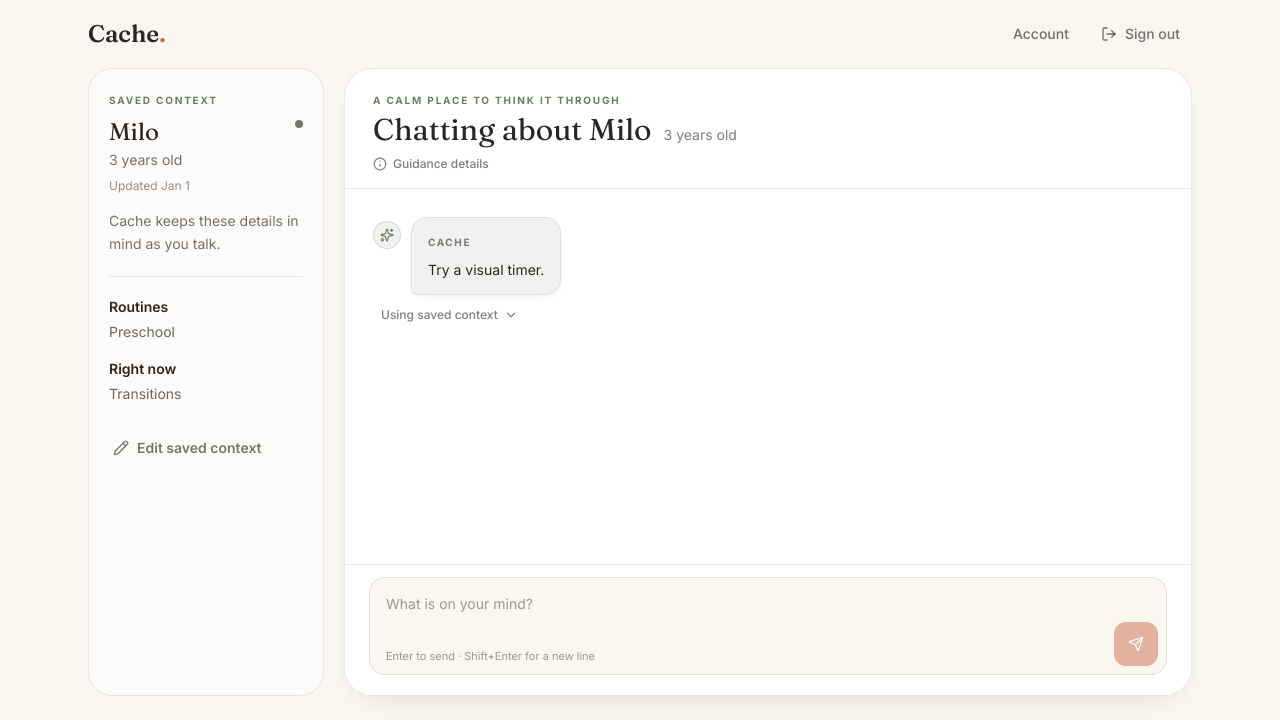
Test case: CacheApp › shows an expandable disclosure beneath a reply that used saved context after reload
Click the heading "Using saved context" at (449, 315), box left=373, top=303, right=526, bottom=327
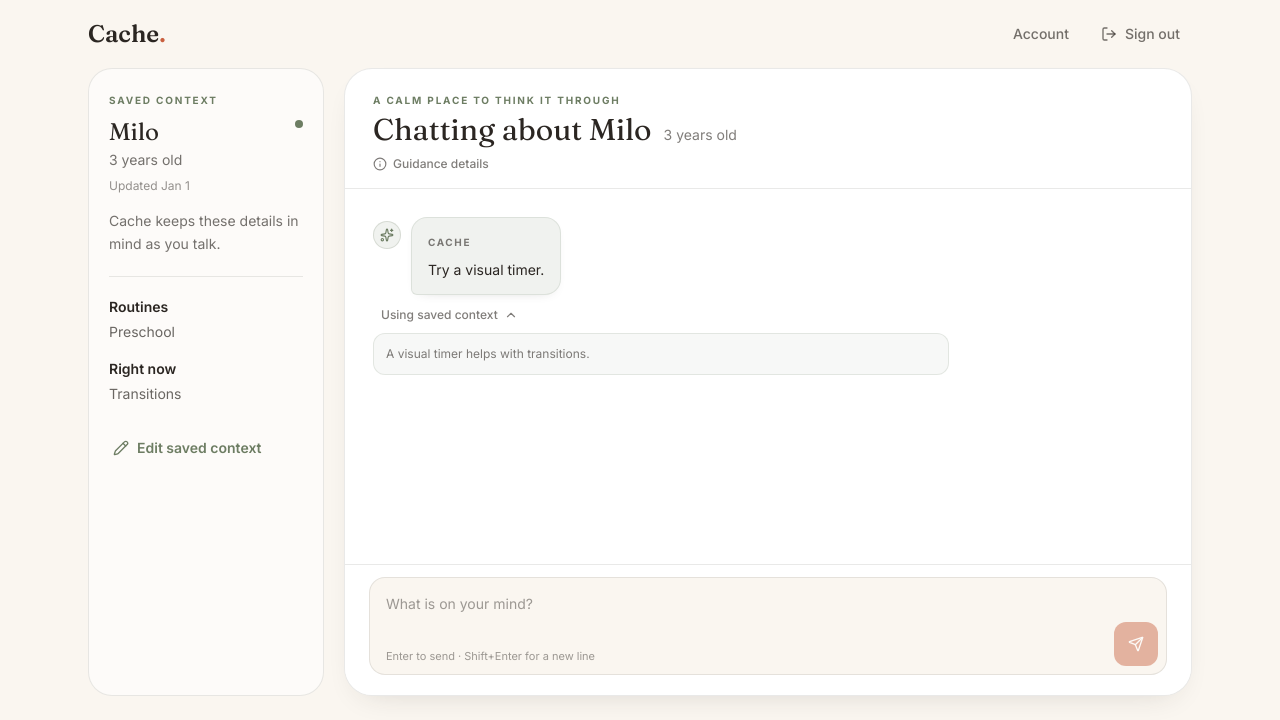
Now the list item "A visual timer helps with transitions." is shown, box left=386, top=346, right=590, bottom=361
